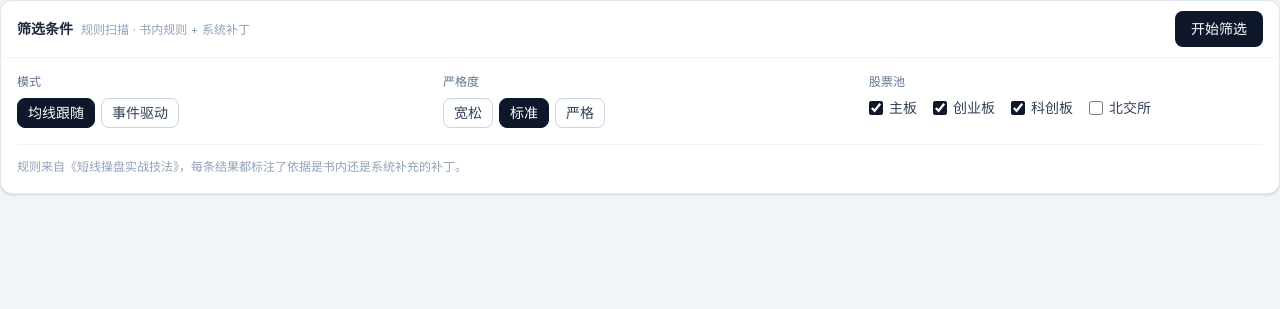
Test case: ScreenerPanel 控件与请求 › 一个板块都不选时直接给出提示，不发起请求
This screenshot has width=1280, height=309.
Click the checkbox labelled "主板" at [876, 108], box [869,101,883,115]
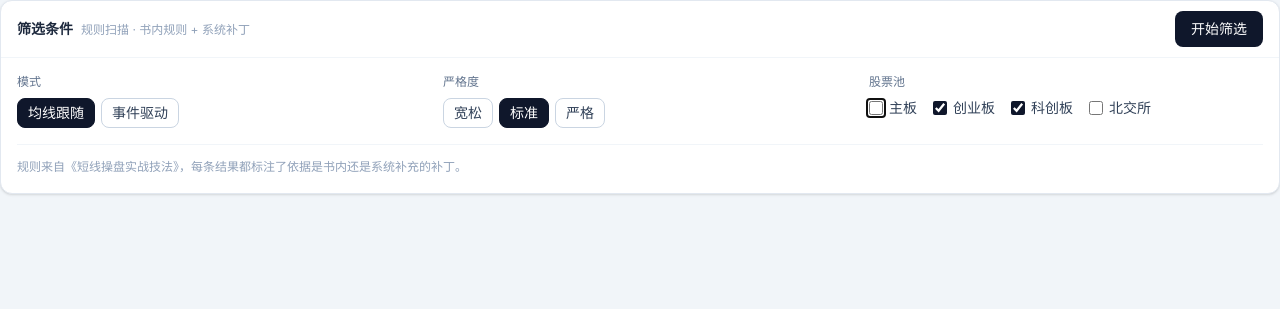
Click the checkbox labelled "创业板" at [940, 108], box [933,101,947,115]
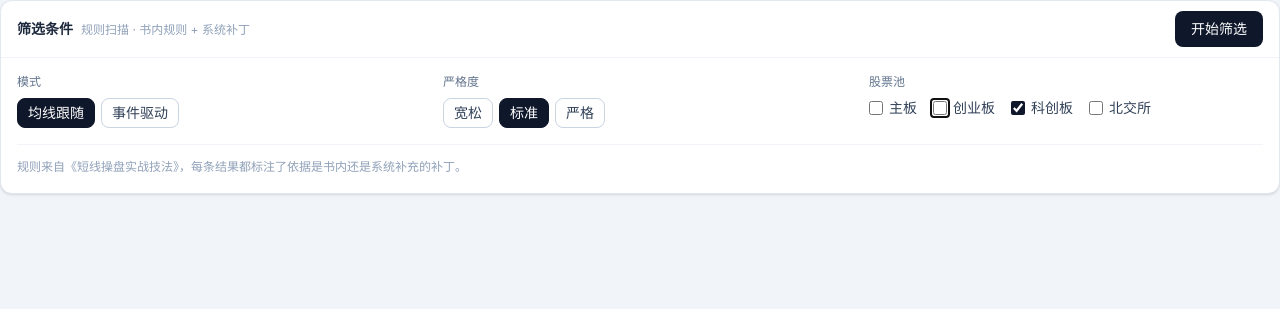
Click the checkbox labelled "科创板" at [1018, 108], box [1011,101,1025,115]
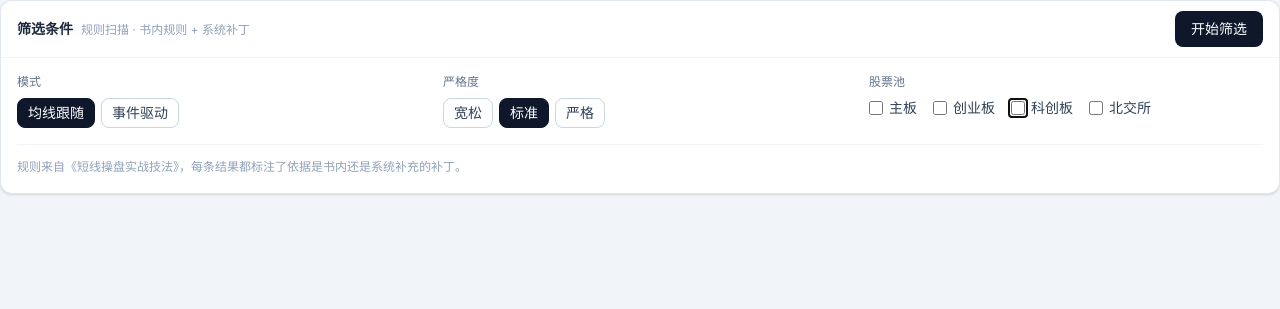
Click the button "开始筛选" at [1219, 29], box [1175,11,1263,47]
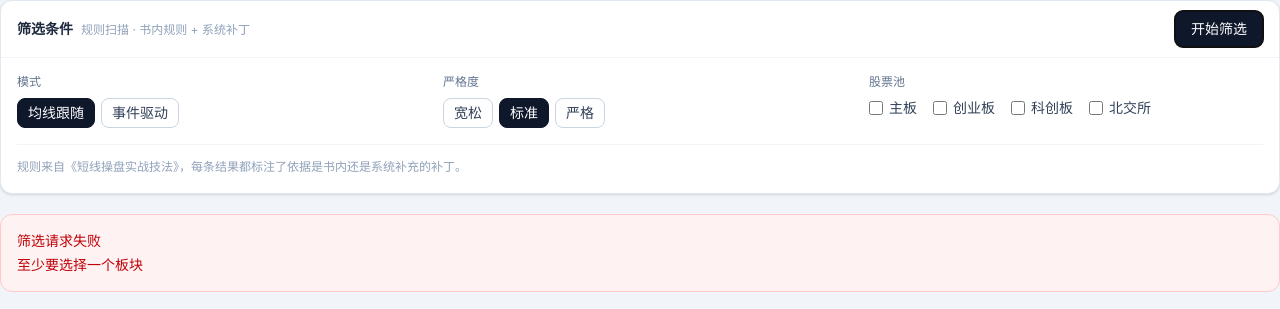
Expected: the text "至少要选择一个板块" is shown, [17,256,143,272]
